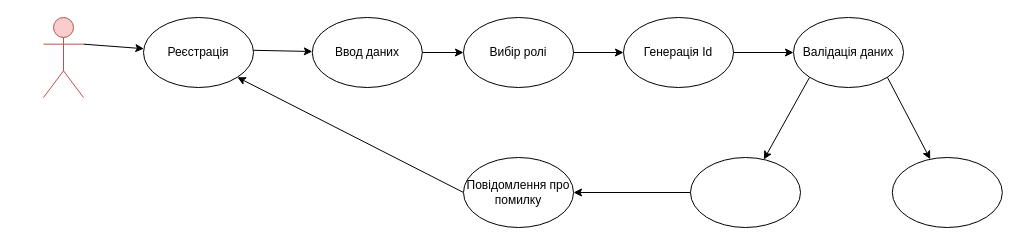
Image size: 1020x245. Some labels were removed from this diagram. Here are the shapes that lost their labels. From the top down, the box of each, then its label:
(42, 16, 84, 98): Новий працівник
(690, 156, 800, 228): Невдала реєстрація
(891, 156, 1002, 228): Вдала реєстрація
